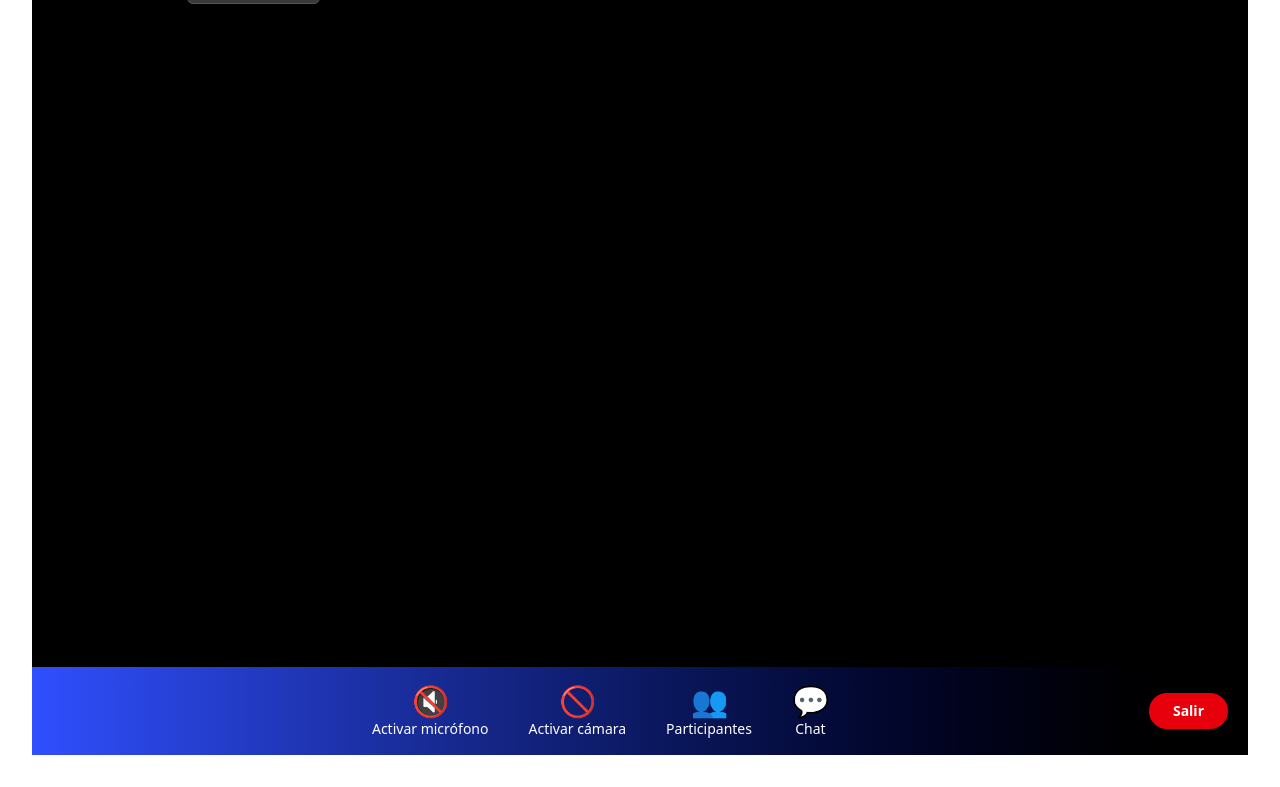
it: Meeting Component - pruebas unitarias › Toggle de video (cámara) › debe poder activar audio y video independientemente
(page scrolled)
# Activar solo audio
What coordinates should you click on to do the following:
click the button titled "Activar/Desactivar de microfono"
I would click on:
 (430, 711)
Its box is [372,683,488,739].
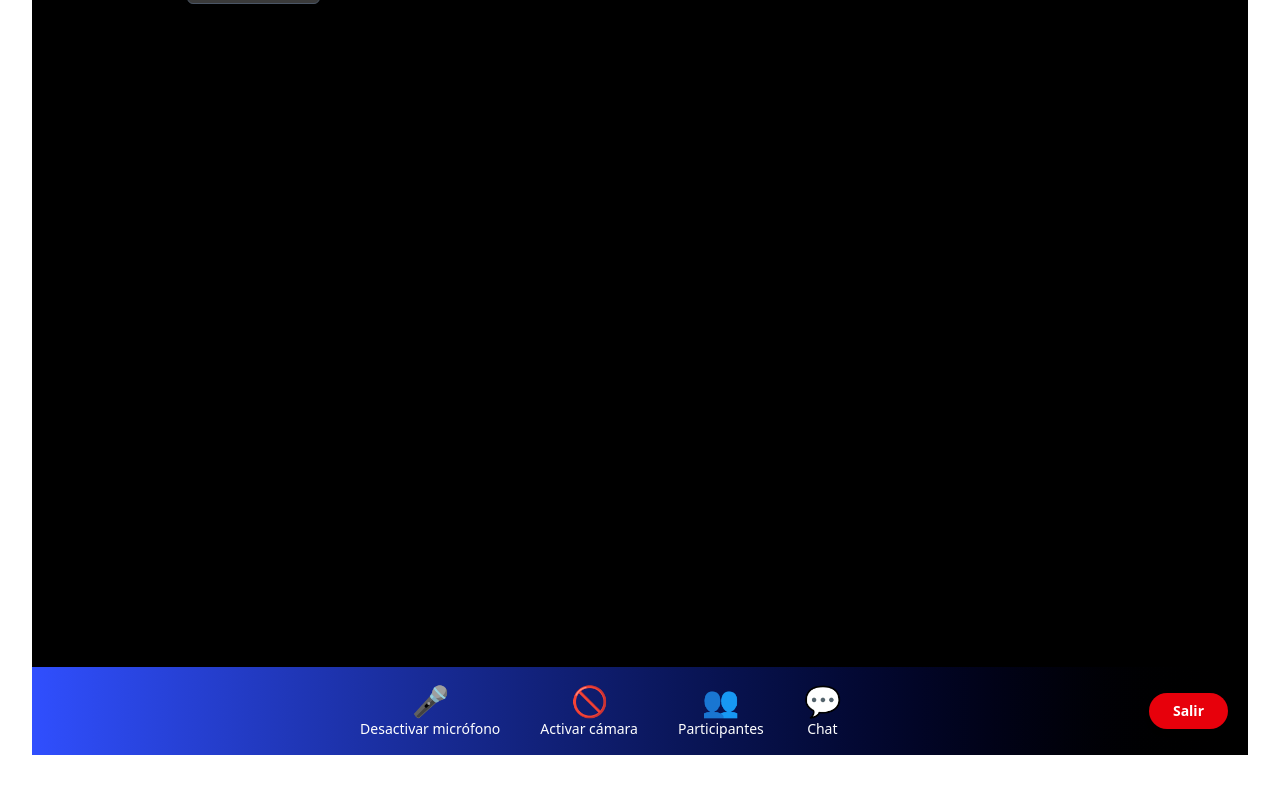
Check: the text "Activar cámara" is shown, box [540,719,638,739]
Check: the text "Desactivar micrófono" is shown, box [360,719,500,739]
# Ahora activar video también
What coordinates should you click on to do the following:
click the button titled "Activar/Desactivar de cámara"
I would click on:
 (589, 711)
Its box is [540,683,638,739].
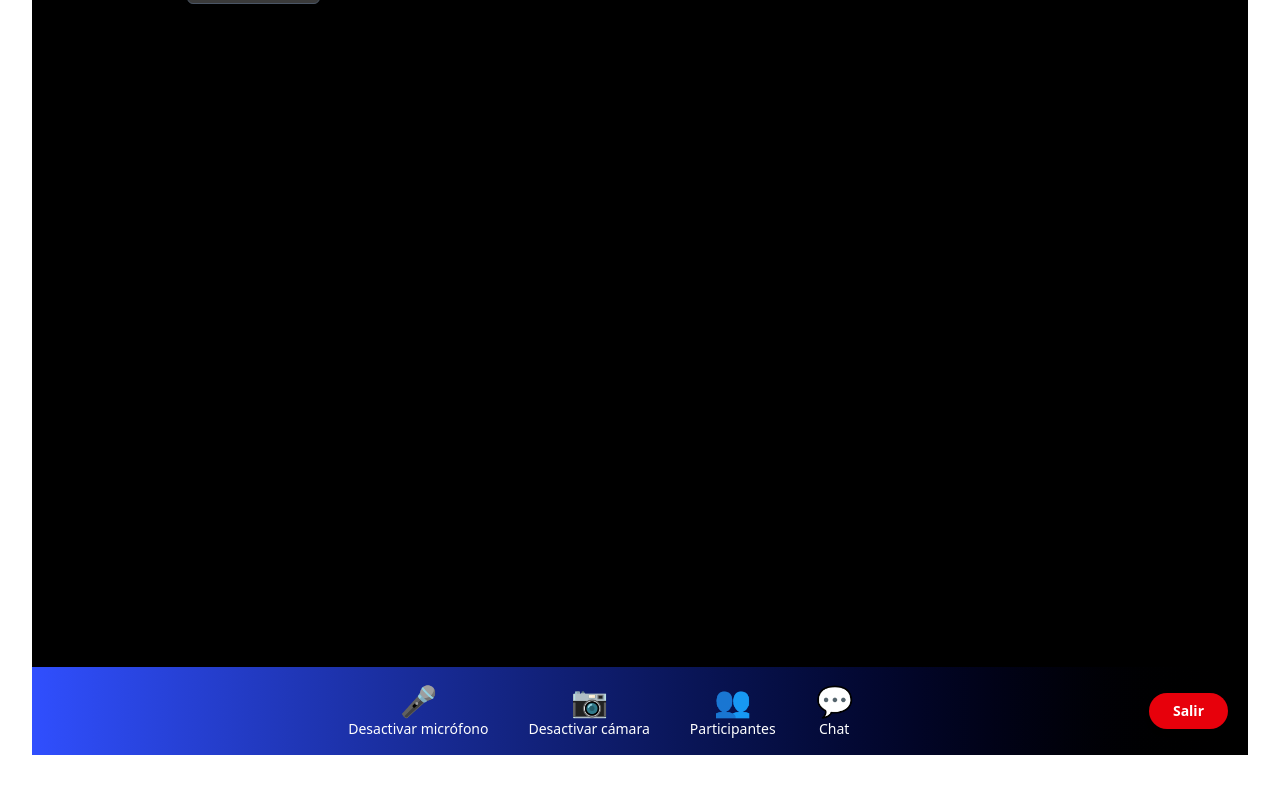
Check: the text "Desactivar micrófono" is shown, box [348,719,488,739]
Check: the text "Desactivar cámara" is shown, box [528,719,650,739]
